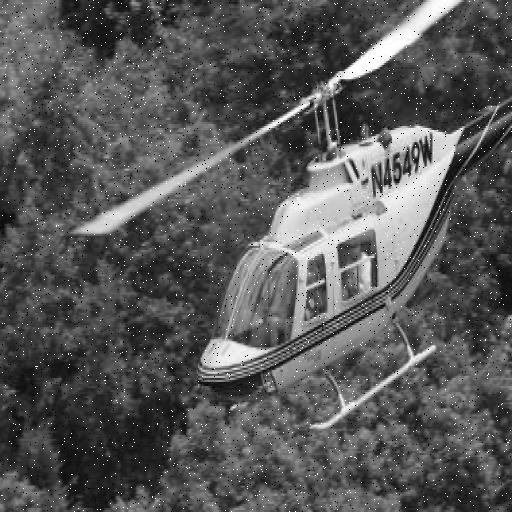helicopter: (64, 1, 512, 460)
